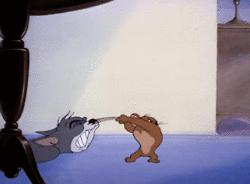jerry: (115, 112, 169, 165)
